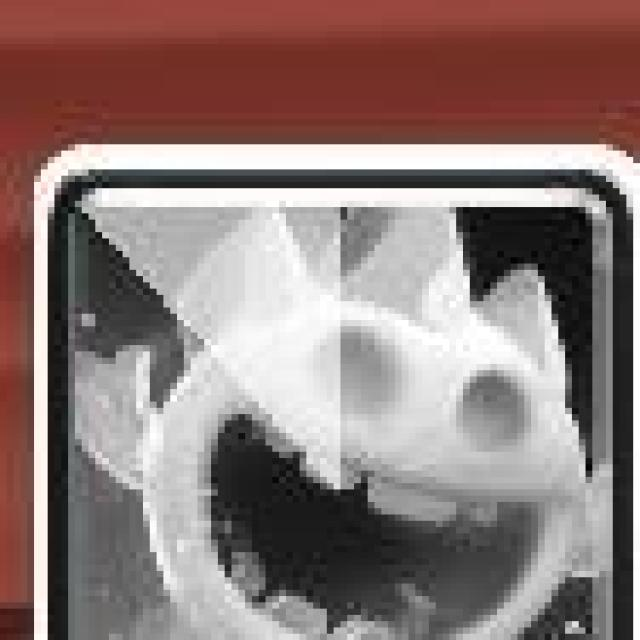Ice_Spirit: (33, 140, 637, 639)
